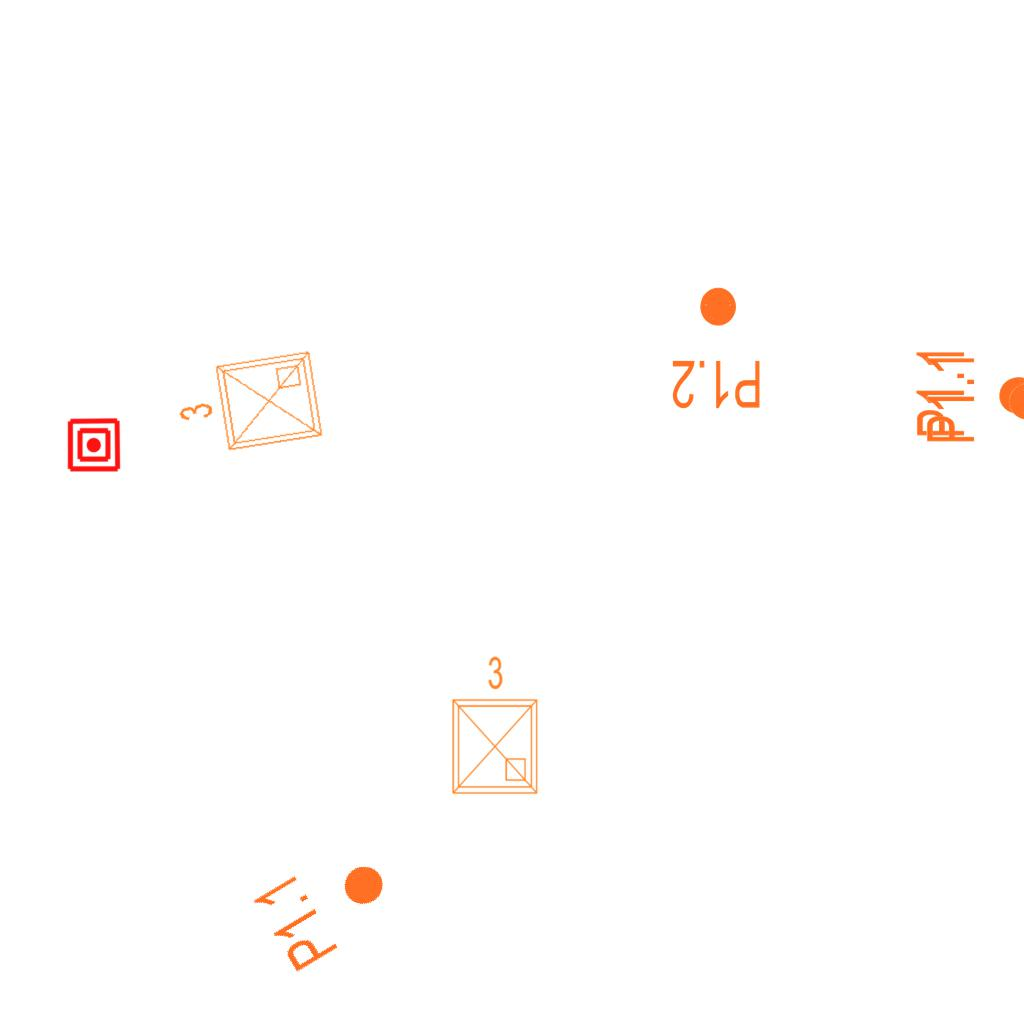Downlight_LED_Einbauleuchten_Flur: (247, 831, 406, 977), (670, 284, 763, 412), (913, 346, 1024, 439), (923, 352, 1024, 445)
Einbaudownlights_LED_Konferenzraeume: (166, 342, 332, 470), (441, 651, 545, 801)
NAM-Nichtautomatischer_Melder: (66, 417, 122, 473)
